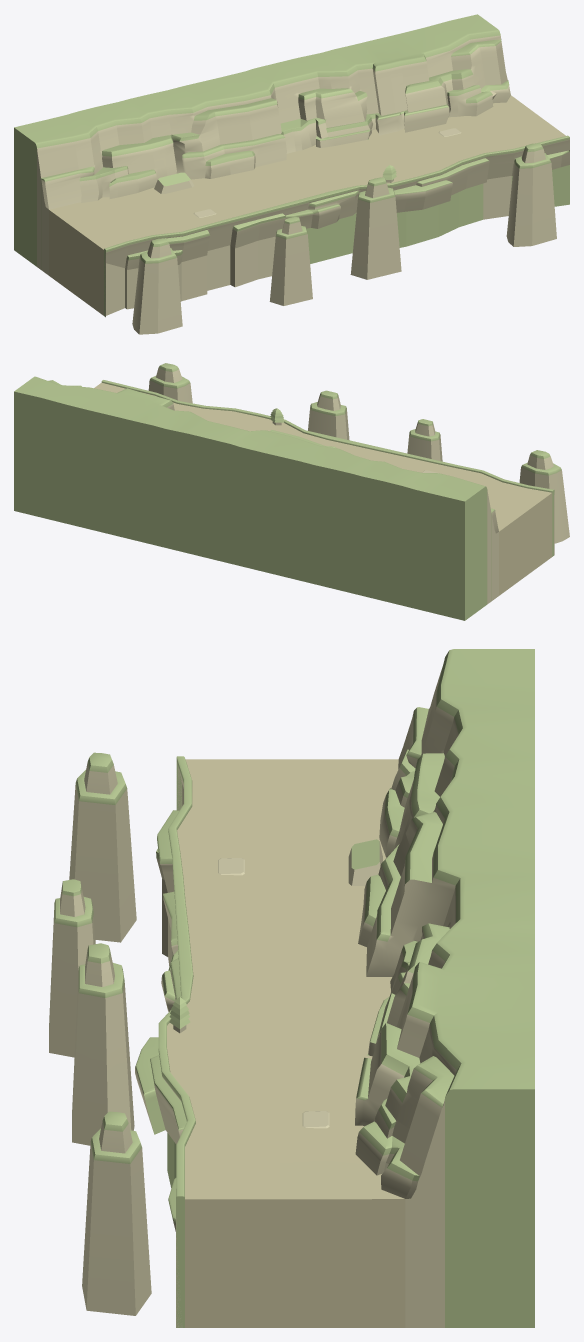
File: hill_road_environment rodeo stampede.fbx
3 renders of one model, top to bottom at view 1: azimuth 30°, elevation 25°; view 2: azimuth 150°, elevation 25°; view 3: azimuth 270°, elevation 25°, orthographic. The views are drawn at different scales.
Visible parts, largest first — view 1: pCylinder6, pCube1; view 2: pCylinder6; view 3: pCylinder6, pCube1.
Part boxes in pixels (x1,y1,x2,y2): pCylinder6: [14, 14, 569, 334]; pCube1: [154, 172, 194, 193]; pCylinder6: [14, 363, 569, 620]; pCylinder6: [49, 649, 534, 1327]; pCube1: [348, 839, 382, 885].
Bounding box in the file's own units: 71.42 × 19.56 × 33.32.
